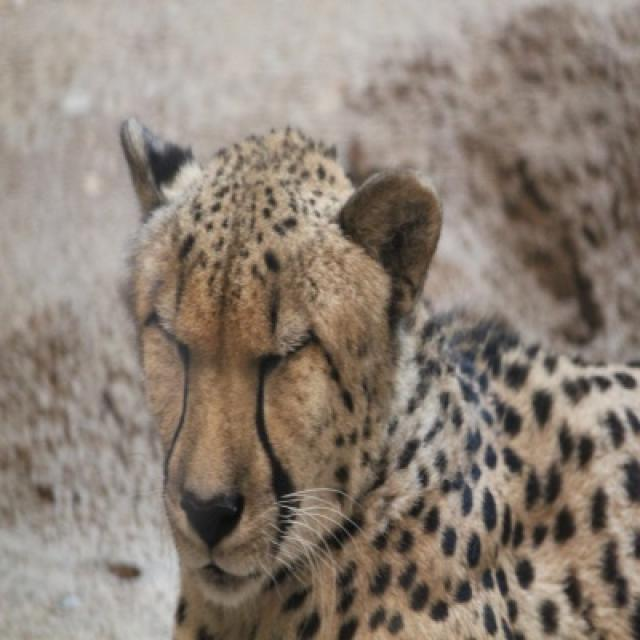Cheetah: (120, 118, 638, 630)
